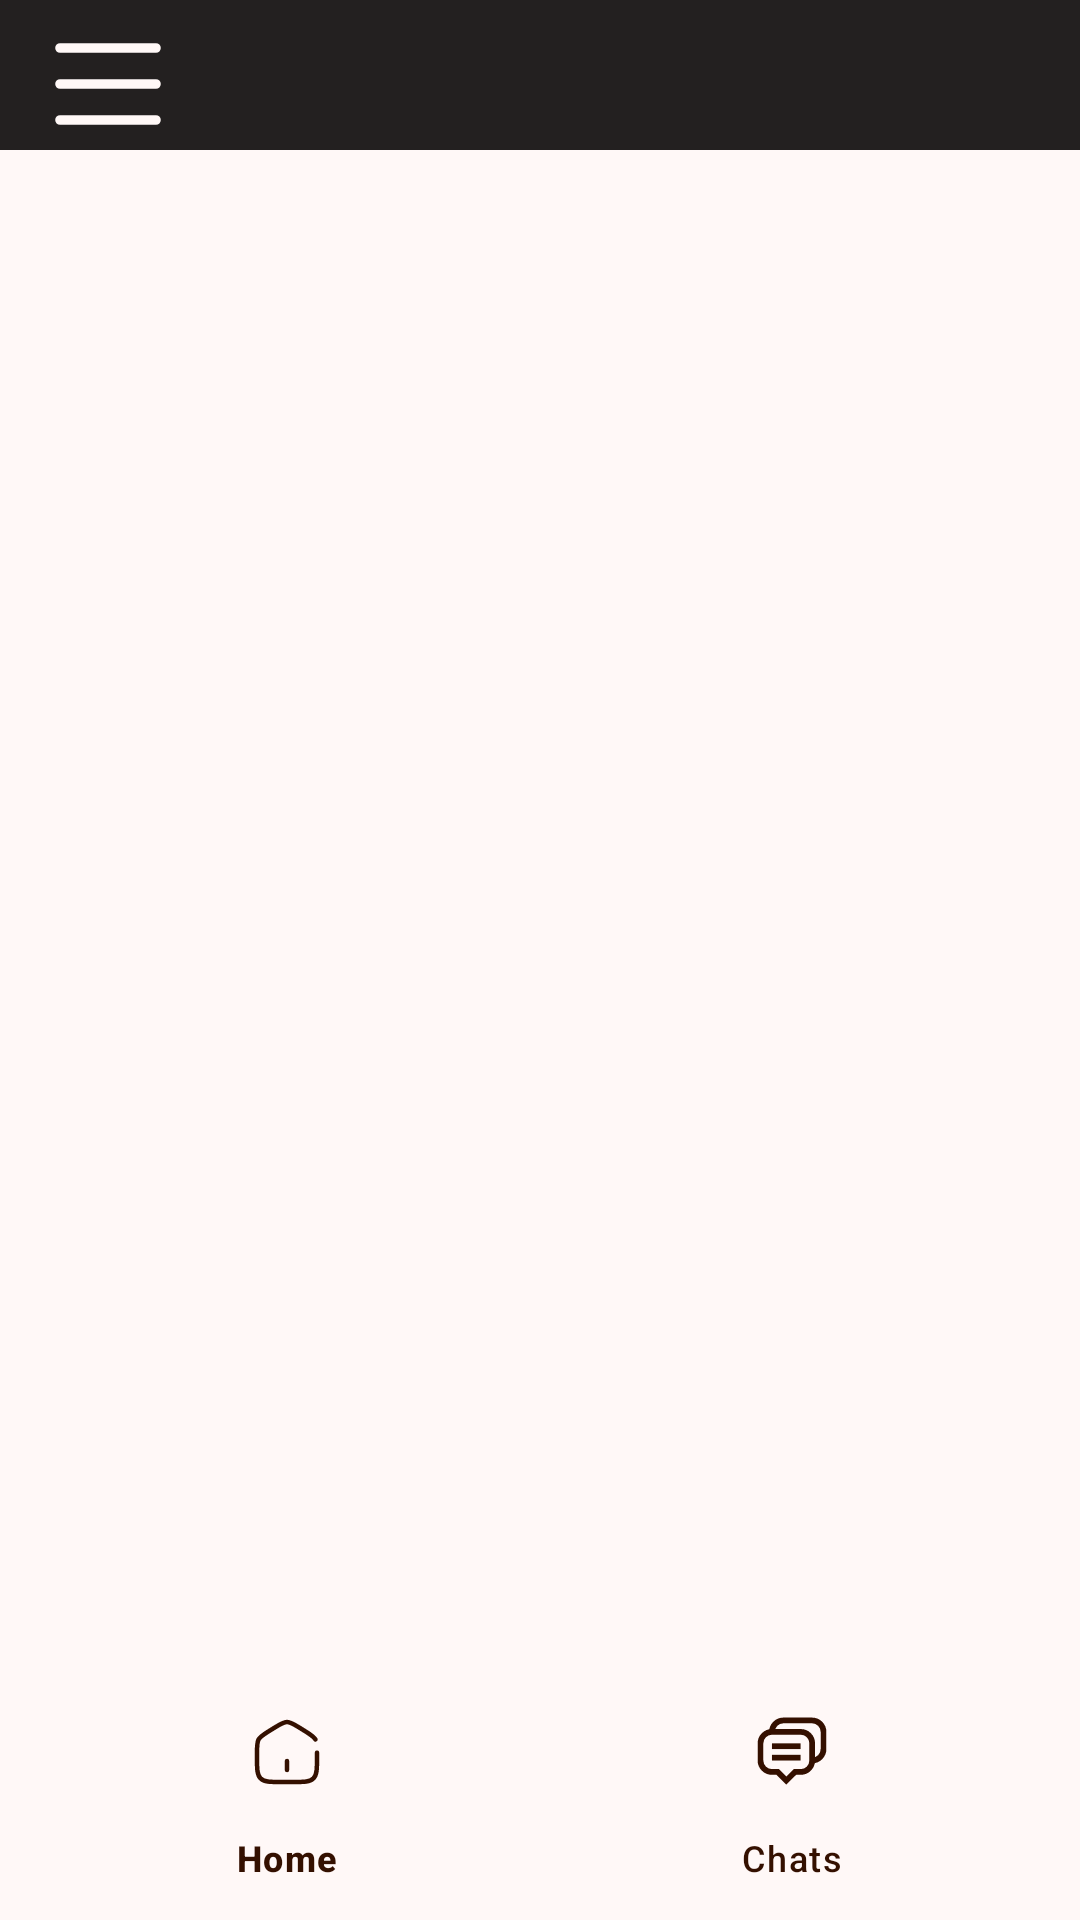

Icon click points for this 1080x1920 phone screenshot, format [x,y]:
menu: [108,84]
